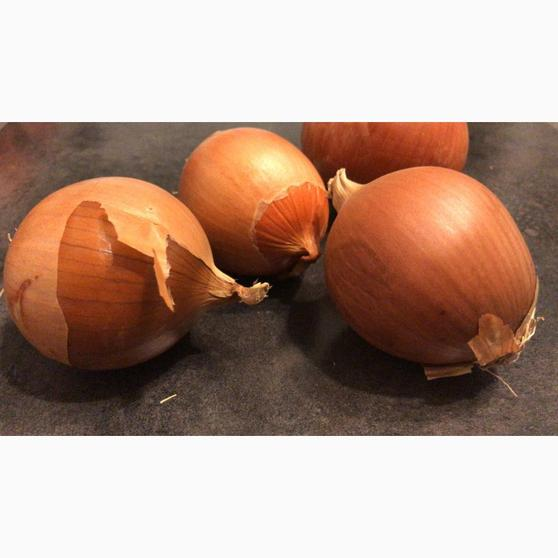onion: (321, 166, 533, 361), (2, 176, 209, 372), (189, 126, 329, 272)
